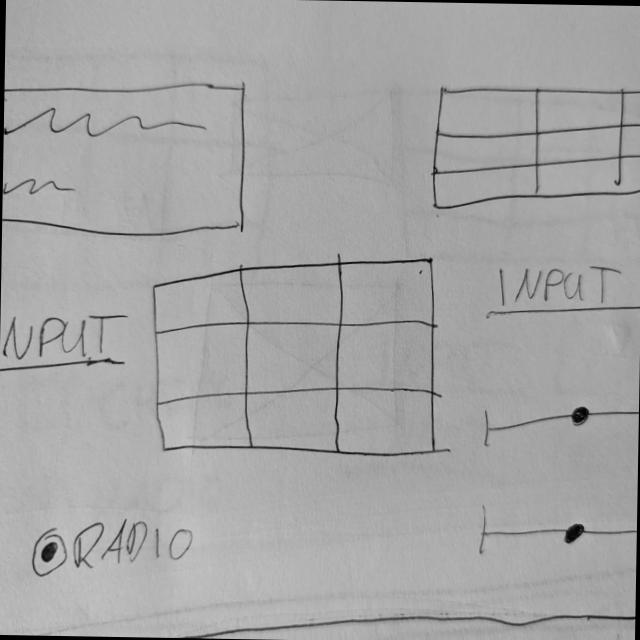input: (478, 252, 640, 322)
radio: (27, 510, 197, 588)
table: (146, 251, 444, 461), (428, 79, 640, 219)
textarea: (2, 75, 250, 242)
